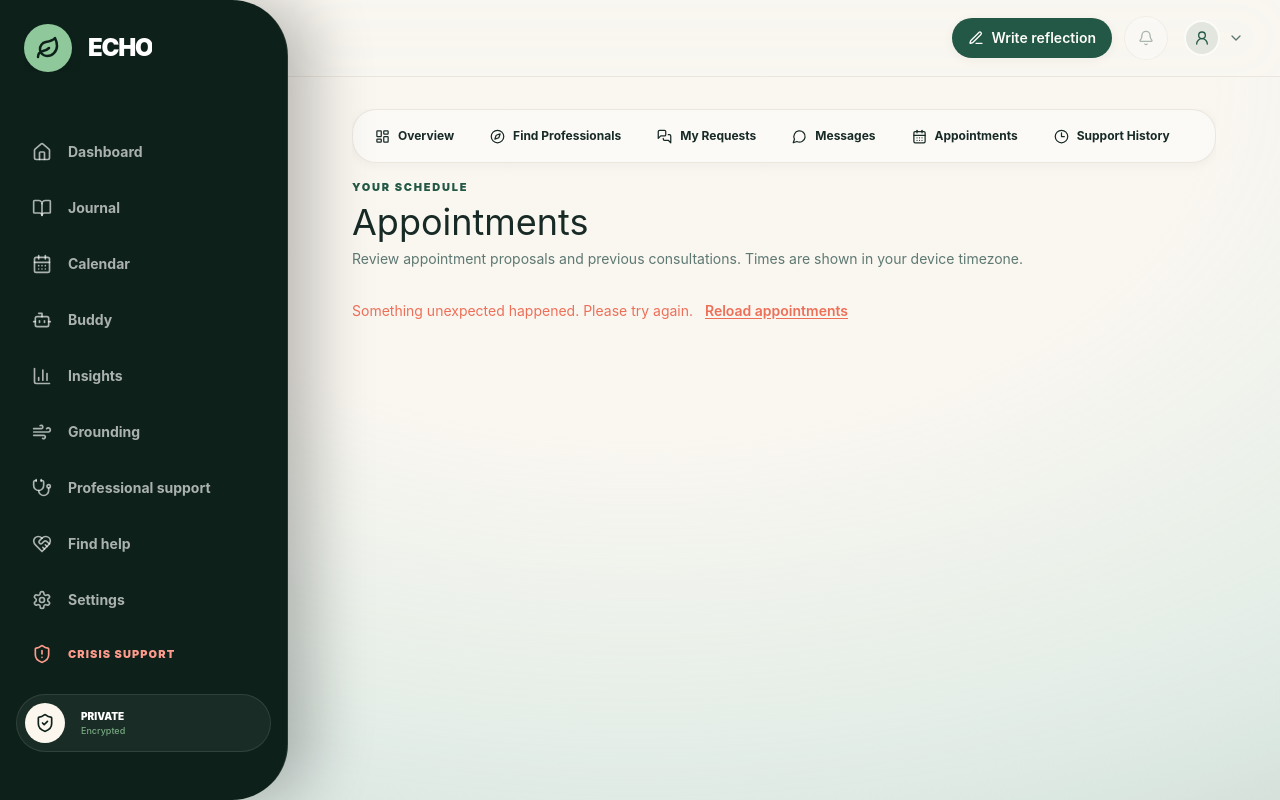
Test: user professional support actions › lets a user retry an unavailable appointment list
The width and height of the screenshot is (1280, 800).
Click the button "Reload appointments": (776, 310) [705,288,848,332]
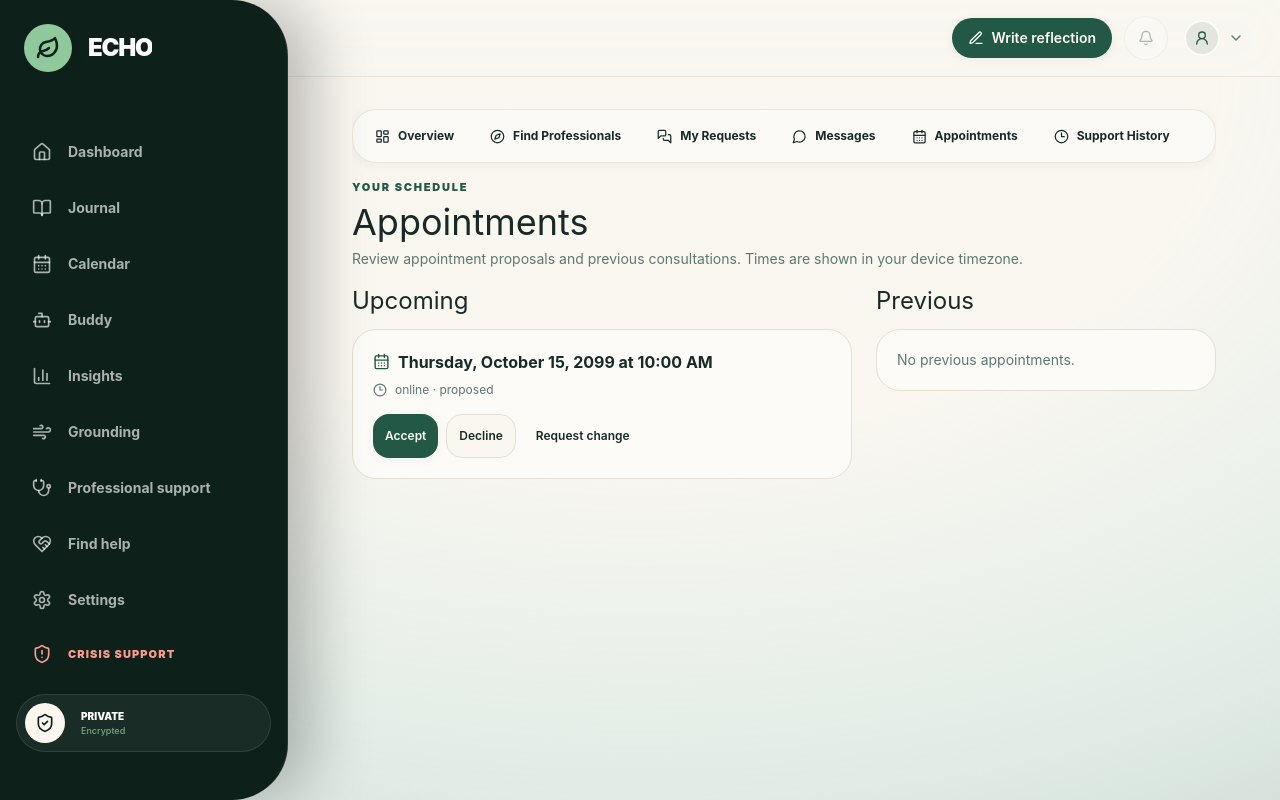
Now the button "Accept" is shown, box [373,414,438,458]
